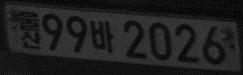0: (148, 20, 173, 61)
2: (122, 18, 147, 59), (175, 22, 200, 63)
6: (201, 25, 226, 65)
9: (65, 15, 88, 54), (41, 12, 63, 51)
바: (90, 20, 114, 53)
울산_V: (17, 10, 41, 50)
